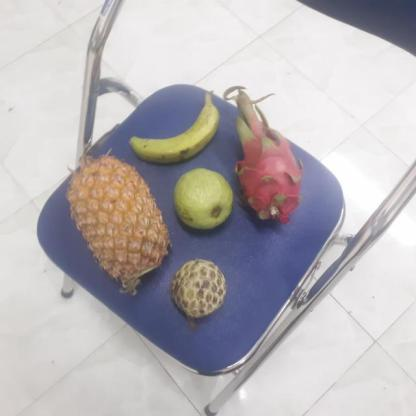annona: (166, 260, 225, 320)
banana: (128, 90, 216, 164)
guava: (168, 167, 234, 231)
pineapple: (62, 157, 169, 286)
pitaya: (227, 114, 302, 221)
